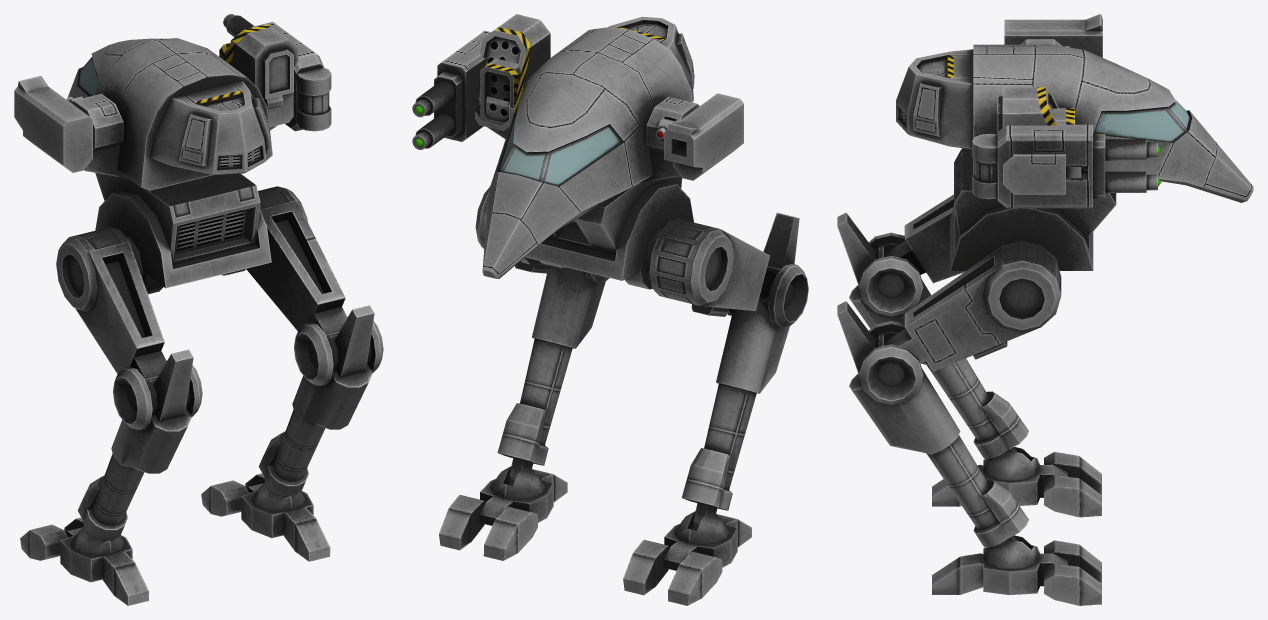
Rendered from Raven.FBX.
3 renders of one model, left to right at view 1: azimuth 30°, elevation 25°; view 2: azimuth 150°, elevation 25°; view 3: azimuth 270°, elevation 25°, orthographic.
Parts seen in each view (by area): view 1: torso, pelvis, rlowerleg, llowerleg, lupperleg, rupperleg, lupperarm, launcher_3 3m, rupperarm, rfoot, lfoot, rbacktoe (+3 smaller); view 2: torso, llowerleg, rlowerleg, pelvis, lupperleg, rupperarm, lupperarm, launcher_3 3m, lfronttoes, rfronttoes, lfoot, rfoot (+2 smaller); view 3: torso, rlowerleg, rupperleg, llowerleg, rupperarm, pelvis, rfoot, lupperleg, rfronttoes, lfronttoes, lupperarm, rupperarm_3m (+4 smaller).
Boxes of the visible parts, bbox=[...] form: torso: bbox=[67, 38, 277, 190]; pelvis: bbox=[95, 173, 271, 294]; rlowerleg: bbox=[258, 305, 383, 497]; llowerleg: bbox=[77, 349, 202, 541]; lupperleg: bbox=[56, 227, 166, 379]; rupperleg: bbox=[246, 186, 347, 334]; lupperarm: bbox=[14, 75, 92, 172]; launcher_3 3m: bbox=[225, 24, 298, 127]; rupperarm: bbox=[223, 14, 331, 131]; rfoot: bbox=[241, 482, 313, 538]; lfoot: bbox=[60, 526, 132, 582]; rbacktoe: bbox=[283, 507, 330, 561]; torso: bbox=[482, 16, 699, 278]; llowerleg: bbox=[681, 212, 808, 530]; rlowerleg: bbox=[497, 265, 609, 485]; pelvis: bbox=[525, 176, 693, 289]; lupperleg: bbox=[644, 219, 776, 316]; rupperarm: bbox=[412, 30, 490, 149]; lupperarm: bbox=[664, 93, 743, 180]; launcher_3 3m: bbox=[475, 14, 550, 130]; lfronttoes: bbox=[623, 539, 722, 605]; rfronttoes: bbox=[439, 494, 537, 560]; lfoot: bbox=[663, 511, 737, 570]; rfoot: bbox=[479, 466, 553, 525]; torso: bbox=[896, 39, 1253, 202]; rlowerleg: bbox=[837, 301, 1028, 547]; rupperleg: bbox=[885, 241, 1061, 371]; llowerleg: bbox=[837, 212, 1028, 459]; rupperarm: bbox=[972, 124, 1160, 208]; pelvis: bbox=[950, 148, 1116, 270]; rfoot: bbox=[983, 535, 1067, 595]; lupperleg: bbox=[885, 194, 965, 283]; rfronttoes: bbox=[1044, 540, 1101, 605]; lfronttoes: bbox=[1044, 451, 1101, 517]; lupperarm: bbox=[1004, 14, 1102, 57]; rupperarm_3m: bbox=[1003, 154, 1087, 194].
Size of the model in its own units: 25.77 by 46.57 by 35.64.
Materials: 1 (1 with a texture image).
